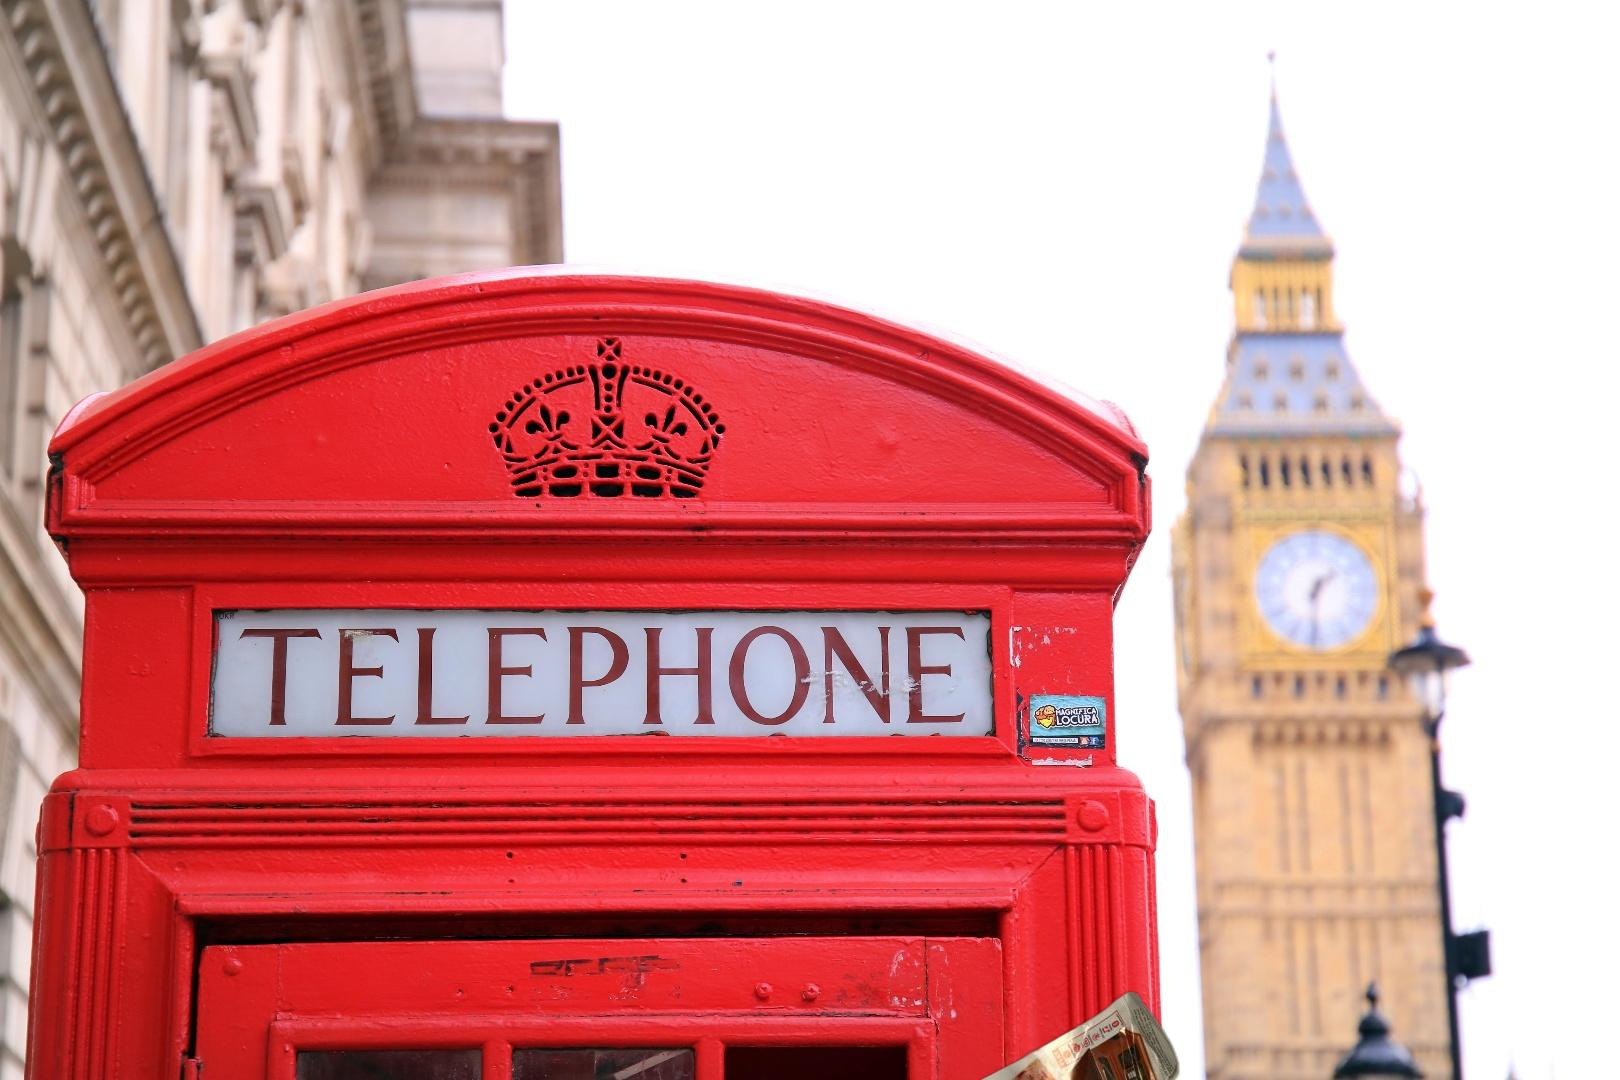paper: (897, 988, 1184, 1080)
